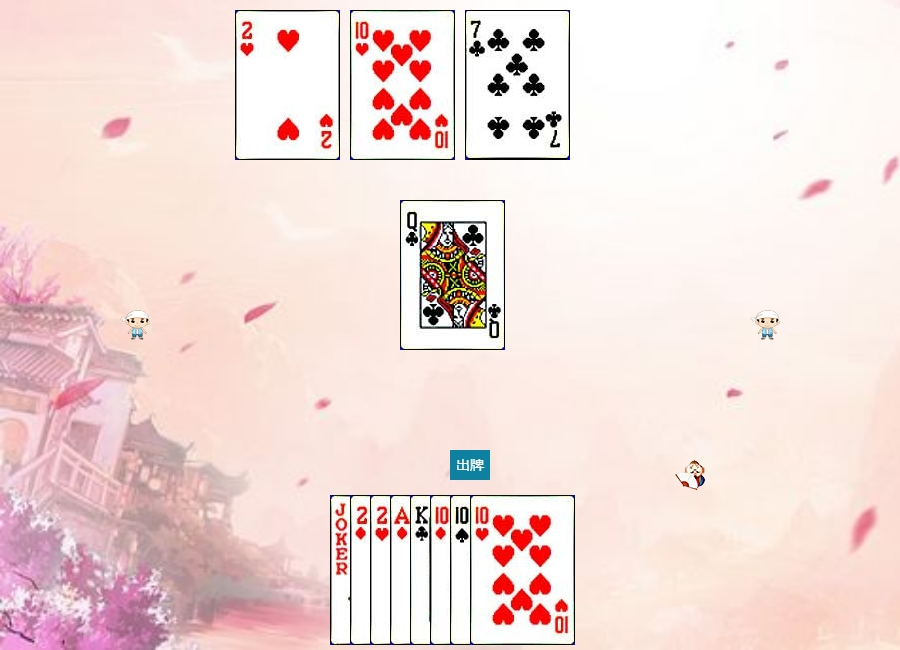10~1: (430, 495, 535, 645)
10~3: (350, 10, 455, 160), (470, 495, 575, 645)
10~4: (450, 495, 555, 645)
12~2: (400, 200, 505, 350)
13~2: (410, 495, 515, 645)
14~1: (390, 495, 495, 645)
15~1: (350, 495, 455, 645)
15~3: (235, 10, 340, 160), (370, 495, 475, 645)
18~4: (330, 495, 435, 645)
7~2: (465, 10, 570, 160)
